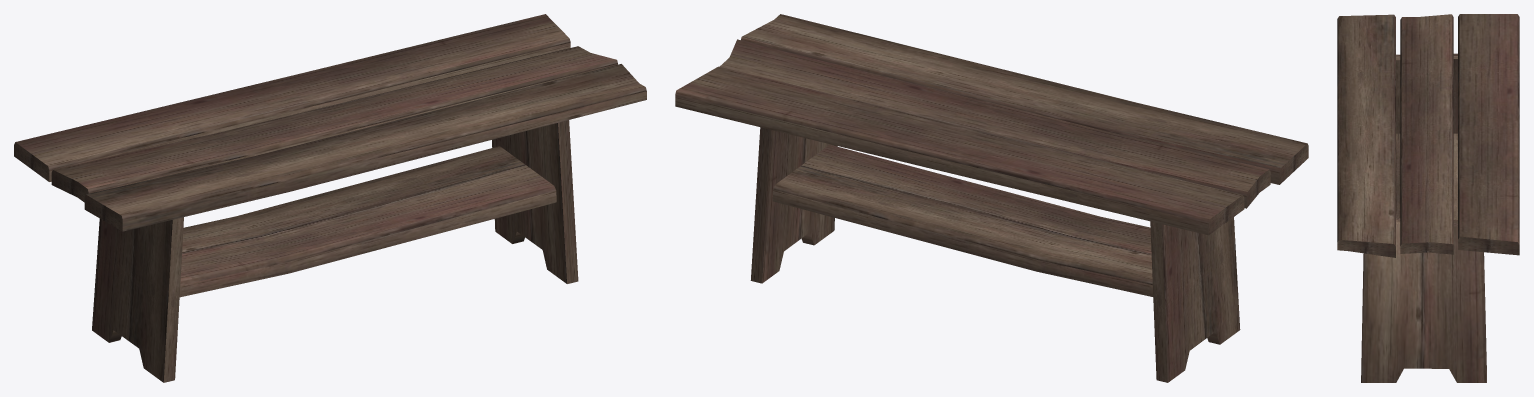
The model's file is counter_shanty.fbx.
3 views of the same model, side by side, from view 1: azimuth 30°, elevation 25°; view 2: azimuth 150°, elevation 25°; view 3: azimuth 270°, elevation 25° (orthographic). The views are drawn at different scales.
Parts seen in each view (by area): view 1: bookshelf_shanty:shelf_5, shelf_5, bookshelf_shanty:shelf_4, shelf_4, bookshelf_shanty:support_2, bookshelf_shanty:support_1; view 2: bookshelf_shanty:shelf_4, bookshelf_shanty:shelf_5, shelf_5, shelf_4, bookshelf_shanty:support_2, bookshelf_shanty:support_1; view 3: bookshelf_shanty:support_1, bookshelf_shanty:shelf_4, shelf_5, shelf_4, bookshelf_shanty:shelf_5, bookshelf_shanty:support_2.
Boxes of the visible parts, x1,y1,x2,y2 form: bookshelf_shanty:shelf_5: [179, 146, 556, 297]; shelf_5: [84, 64, 646, 231]; bookshelf_shanty:shelf_4: [14, 14, 570, 181]; shelf_4: [51, 46, 617, 202]; bookshelf_shanty:support_2: [92, 217, 183, 382]; bookshelf_shanty:support_1: [492, 120, 578, 283]; bookshelf_shanty:shelf_4: [675, 66, 1244, 235]; bookshelf_shanty:shelf_5: [772, 144, 1153, 296]; shelf_5: [741, 14, 1308, 184]; shelf_4: [720, 39, 1270, 208]; bookshelf_shanty:support_2: [1150, 217, 1240, 382]; bookshelf_shanty:support_1: [750, 127, 837, 283]; bookshelf_shanty:support_1: [1361, 217, 1486, 382]; bookshelf_shanty:shelf_4: [1458, 14, 1519, 255]; shelf_5: [1337, 14, 1395, 257]; shelf_4: [1400, 14, 1453, 254]; bookshelf_shanty:shelf_5: [1396, 133, 1457, 219]; bookshelf_shanty:support_2: [1396, 53, 1457, 133].
Bounding box in the file's own units: 1067 × 362 × 359.
1 material, 1 textured.
